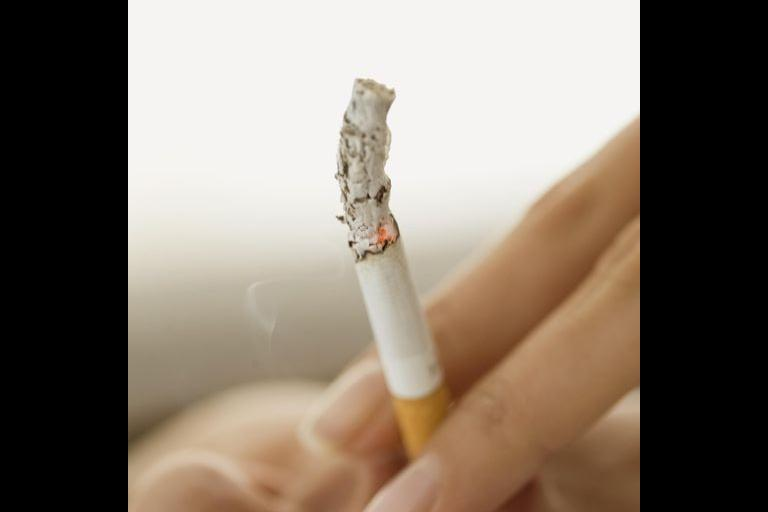Cigarette: (336, 76, 428, 458)
